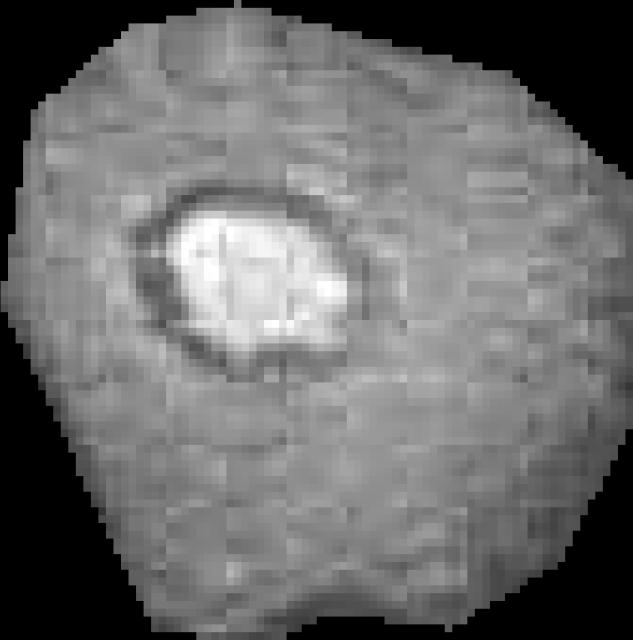tumor_good_chance: (1, 0, 633, 640)
